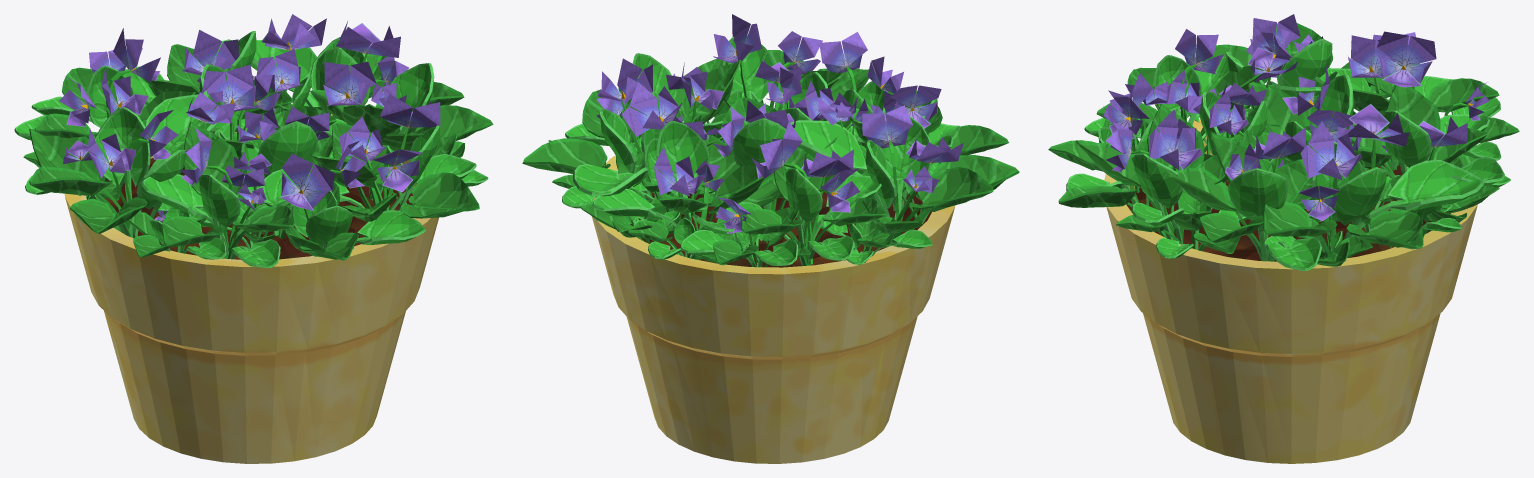
The model's file is Viola_Perfect_End.glb.
The picture shows the model from 3 angles, left to right: view 1: azimuth 30°, elevation 25°; view 2: azimuth 150°, elevation 25°; view 3: azimuth 270°, elevation 25°; orthographic projection. The views are drawn at different scales.
Visible parts, largest first — view 1: Plane.196, Pot.002; view 2: Plane.196, Pot.002; view 3: Plane.196, Pot.002.
Boxes of the visible parts, x1,y1,x2,y2 form: Plane.196: (14,14,493,268); Pot.002: (64,114,439,463); Plane.196: (522,14,1019,267); Pot.002: (592,155,955,463); Plane.196: (1048,14,1519,270); Pot.002: (1104,119,1477,463).
Size of the model in its own units: 2.68 by 2.09 by 2.55.
6 materials, 5 textured.
